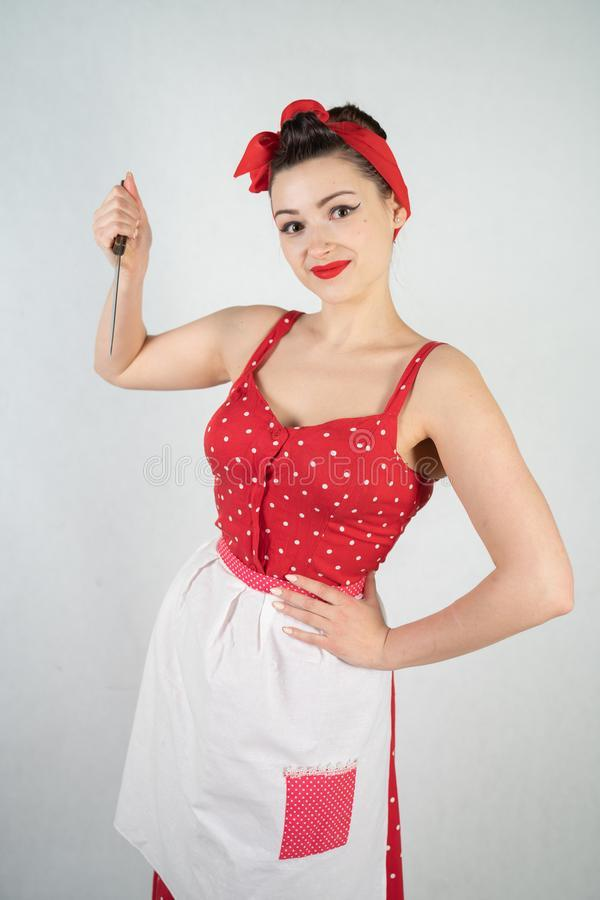criminal: (90, 94, 576, 900)
weapon: (103, 176, 134, 356)
